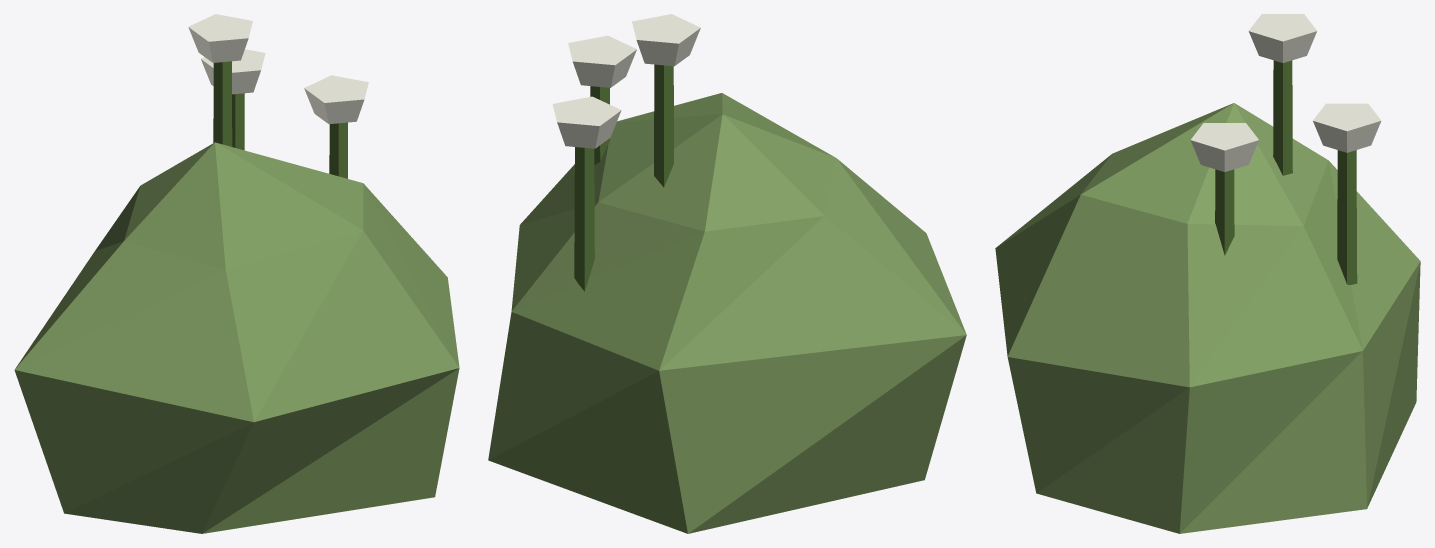
Rendered from psychoid.obj.
The picture shows the model from 3 angles, left to right: view 1: azimuth 30°, elevation 25°; view 2: azimuth 150°, elevation 25°; view 3: azimuth 270°, elevation 25°; orthographic projection. The views are drawn at different scales.
Visible parts, largest first — view 1: psychoid; view 2: psychoid; view 3: psychoid.
Boxes of the visible parts, x1=… form: psychoid: x1=14, y1=14, x2=459, y2=533; psychoid: x1=488, y1=14, x2=966, y2=533; psychoid: x1=995, y1=14, x2=1420, y2=533.
Size of the model in its own units: 0.5653 by 0.5129 by 0.4708.
